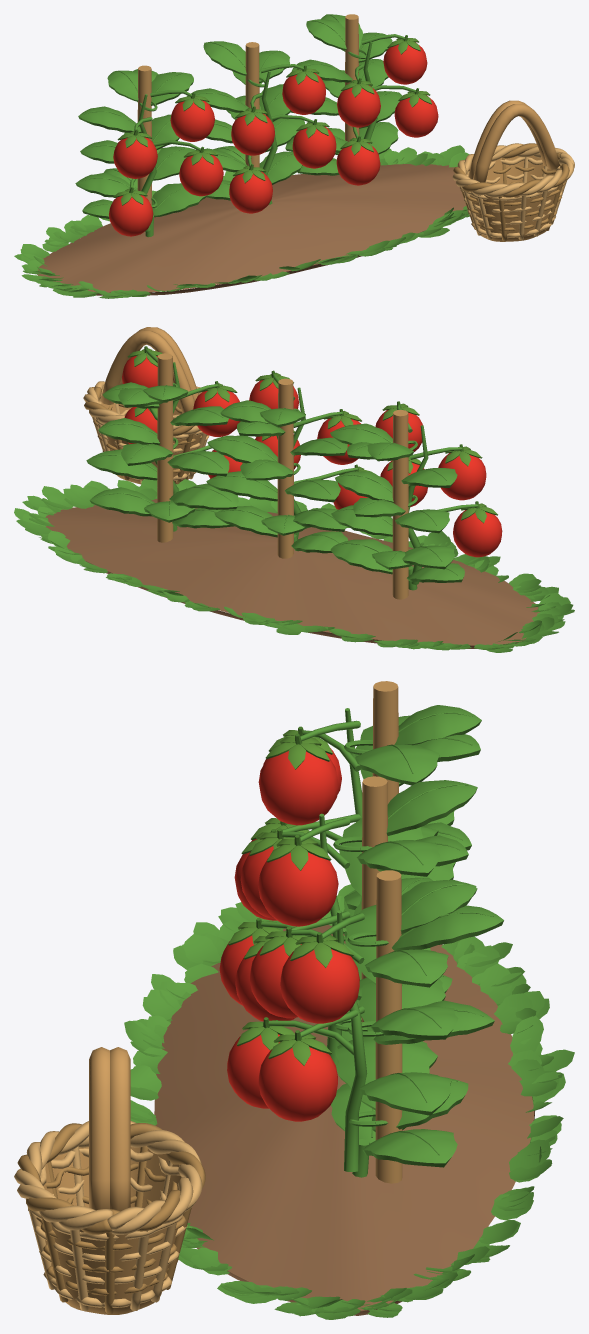
File: whole_plant_scene.glb
3 views of the same model, one above another, from view 1: azimuth 30°, elevation 25°; view 2: azimuth 150°, elevation 25°; view 3: azimuth 270°, elevation 25° (orthographic). The views are drawn at different scales.
Parts seen in each view (by area): view 1: GardenBed | static geometry, Basket | static geometry, Plant01 | static geometry, Plant02 | static geometry, Plant03 | static geometry, HarvestTarget Tomato P01 F01, HarvestTarget Tomato P01 F03, HarvestTarget Tomato P01 F04, HarvestTarget Tomato P02 F01, HarvestTarget Tomato P01 F02, HarvestTarget Tomato P02 F03, HarvestTarget Tomato P02 F04 (+5 smaller); view 2: GardenBed | static geometry, Plant01 | static geometry, Plant03 | static geometry, Plant02 | static geometry, Basket | static geometry, HarvestTarget Tomato P01 F01, HarvestTarget Tomato P01 F03, HarvestTarget Tomato P03 F03, HarvestTarget Tomato P03 F04, HarvestTarget Tomato P01 F04, HarvestTarget Tomato P02 F04, HarvestTarget Tomato P02 F03 (+3 smaller); view 3: GardenBed | static geometry, Plant03 | static geometry, Basket | static geometry, Plant02 | static geometry, Plant01 | static geometry, HarvestTarget Tomato P03 F04, HarvestTarget Tomato P03 F02, HarvestTarget Tomato P02 F04, HarvestTarget Tomato P01 F04, HarvestTarget Tomato P03 F01, HarvestTarget Tomato P03 F03, HarvestTarget Tomato P02 F01 (+2 smaller).
Part boxes in pixels (x1,y1,x2,y2): GardenBed | static geometry: [14, 145, 469, 298]; Basket | static geometry: [452, 100, 574, 241]; Plant01 | static geometry: [75, 65, 206, 237]; Plant02 | static geometry: [191, 41, 313, 204]; Plant03 | static geometry: [285, 14, 416, 175]; HarvestTarget Tomato P01 F01: [109, 187, 153, 236]; HarvestTarget Tomato P01 F03: [113, 129, 157, 178]; HarvestTarget Tomato P01 F04: [170, 92, 214, 141]; HarvestTarget Tomato P02 F01: [229, 164, 272, 213]; HarvestTarget Tomato P01 F02: [179, 146, 223, 196]; HarvestTarget Tomato P02 F03: [231, 106, 274, 155]; HarvestTarget Tomato P02 F04: [282, 65, 325, 114]; GardenBed | static geometry: [14, 479, 574, 652]; Plant01 | static geometry: [330, 404, 478, 599]; Plant03 | static geometry: [86, 349, 238, 542]; Plant02 | static geometry: [206, 374, 357, 558]; Basket | static geometry: [83, 327, 209, 484]; HarvestTarget Tomato P01 F01: [453, 501, 502, 557]; HarvestTarget Tomato P01 F03: [438, 444, 486, 500]; HarvestTarget Tomato P03 F03: [193, 381, 240, 436]; HarvestTarget Tomato P03 F04: [122, 346, 162, 387]; HarvestTarget Tomato P01 F04: [375, 401, 422, 451]; HarvestTarget Tomato P02 F04: [249, 370, 298, 409]; HarvestTarget Tomato P02 F03: [317, 409, 361, 464]; GardenBed | static geometry: [124, 884, 574, 1319]; Plant03 | static geometry: [268, 870, 503, 1183]; Basket | static geometry: [14, 1047, 205, 1314]; Plant02 | static geometry: [261, 776, 477, 1066]; Plant01 | static geometry: [276, 681, 481, 927]; HarvestTarget Tomato P03 F04: [280, 932, 359, 1023]; HarvestTarget Tomato P03 F02: [258, 1030, 337, 1121]; HarvestTarget Tomato P02 F04: [258, 835, 338, 926]; HarvestTarget Tomato P01 F04: [258, 733, 338, 825]; HarvestTarget Tomato P03 F01: [227, 1017, 294, 1108]; HarvestTarget Tomato P03 F03: [250, 926, 306, 1018]; HarvestTarget Tomato P02 F01: [219, 917, 283, 1005].
Size of the model in its own units: 5.74 by 2.11 by 3.11.
